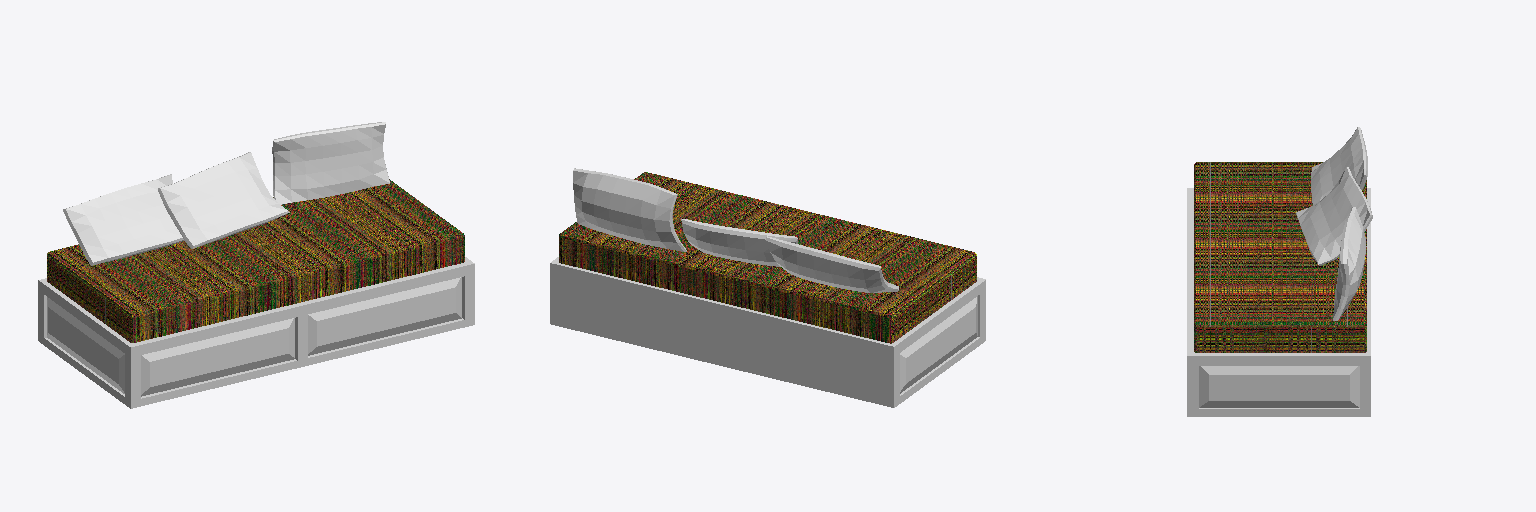
3 renders of one model, left to right at view 1: azimuth 30°, elevation 25°; view 2: azimuth 150°, elevation 25°; view 3: azimuth 270°, elevation 25°, orthographic.
Visible parts, largest first — view 1: ChamferBox01, Box01, Box17, Box02, Box16; view 2: ChamferBox01, Box01, Box17, Box16, Box02; view 3: ChamferBox01, Box01, Box02, Box17, Box16.
Part boxes in pixels (x1,y1,x2,y2): ChamferBox01: (47,179,464,342); Box01: (38,257,474,408); Box17: (272,122,389,204); Box02: (158,152,289,248); Box16: (63,174,183,265); ChamferBox01: (559,172,976,343); Box01: (550,257,985,407); Box17: (573,168,686,251); Box16: (766,236,898,292); Box02: (681,219,797,266); ChamferBox01: (1194,162,1366,352); Box01: (1187,188,1370,416); Box02: (1296,167,1372,265); Box17: (1333,207,1366,320); Box16: (1311,127,1367,204).
Bounding box in the file's own units: 2.01 × 0.8547 × 0.9382.
3 materials, 1 textured.